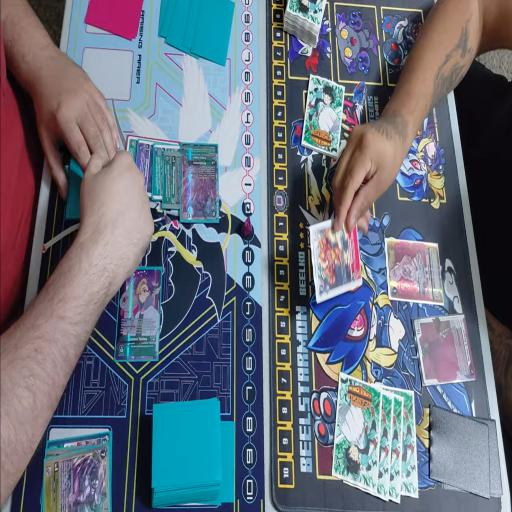card: (309, 214, 366, 306), (414, 308, 472, 392), (42, 448, 115, 512), (114, 268, 163, 361), (385, 233, 441, 303), (180, 140, 218, 224), (162, 150, 185, 212), (136, 136, 154, 194), (150, 140, 164, 197), (128, 135, 137, 168)
